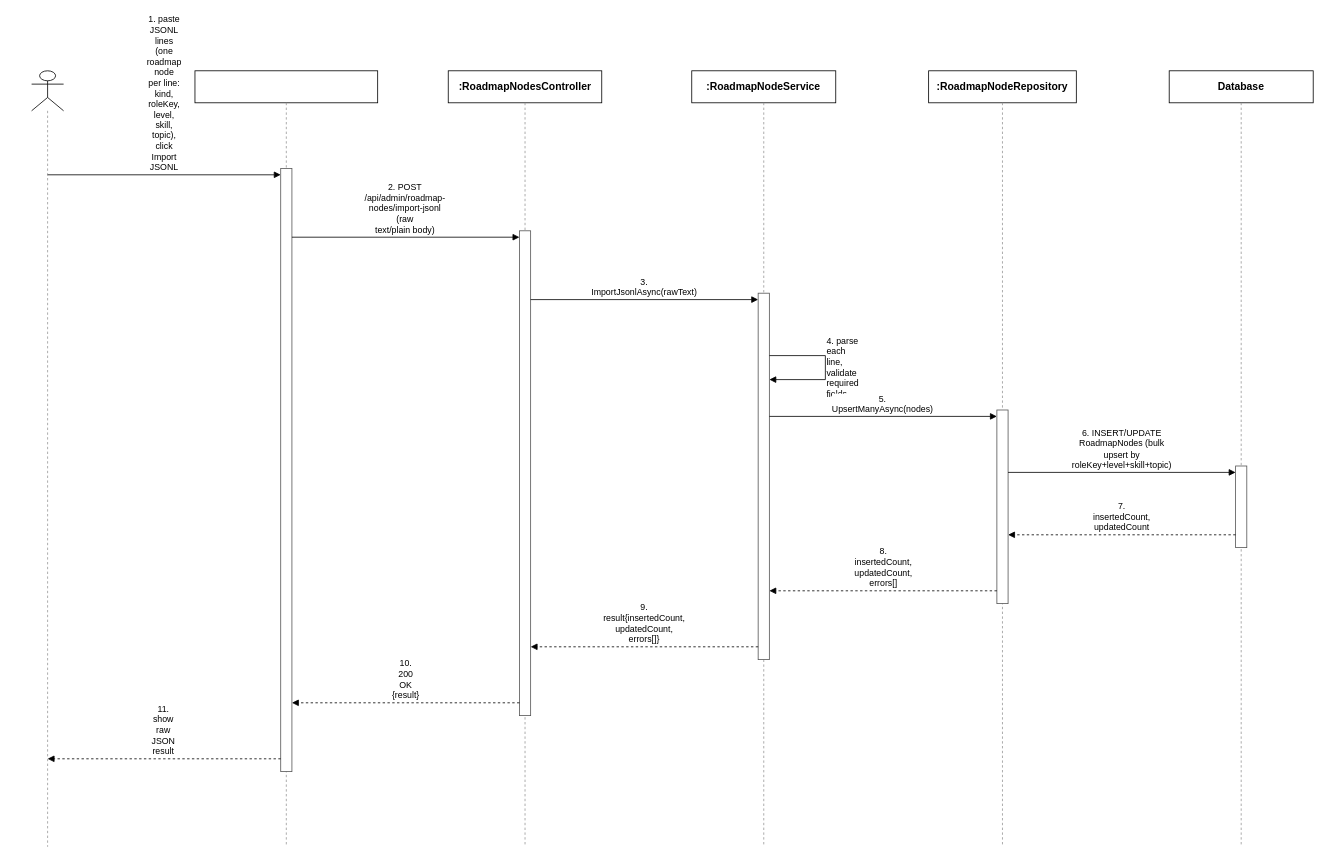
Some shapes in this 1327 by 862 pixel diagram are drawn without their labels. The shapes that lost their labels are listed below. From the top down, each one's box as (x1, y1, x2, y2) in pixels, then its label:
(31, 70, 64, 111): Administrator
(194, 70, 378, 103): :AdminRoadmapNodeImportPanel
